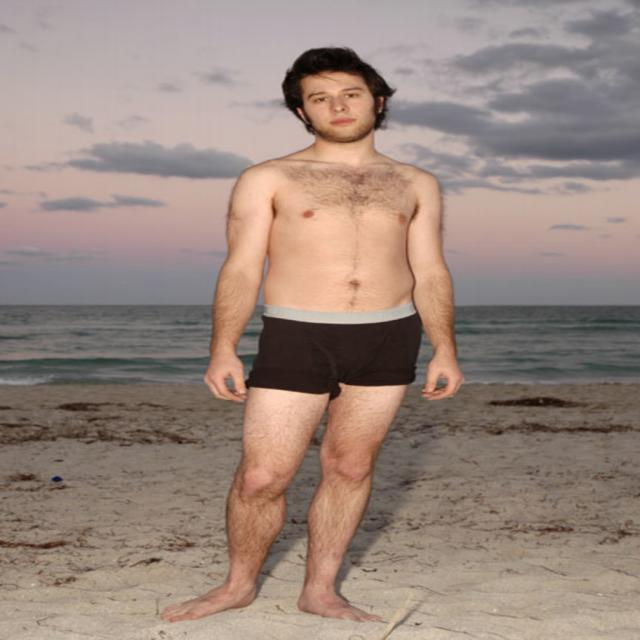closed-mouth: (329, 115, 357, 128)
